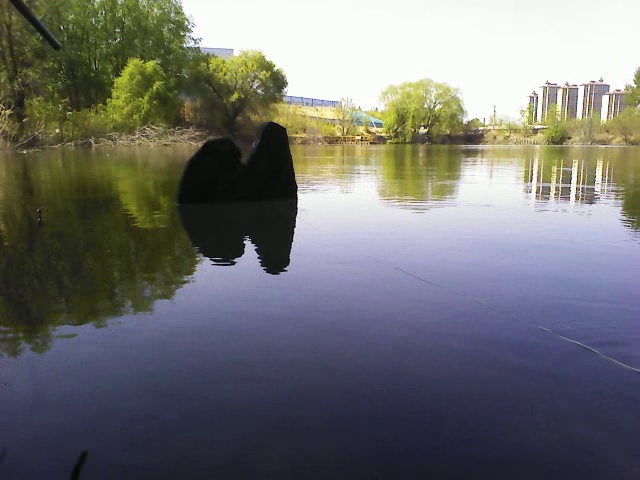rock: (174, 122, 304, 199)
